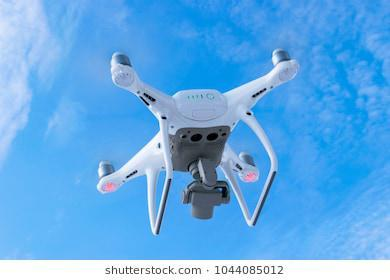drone: (56, 43, 325, 235)
